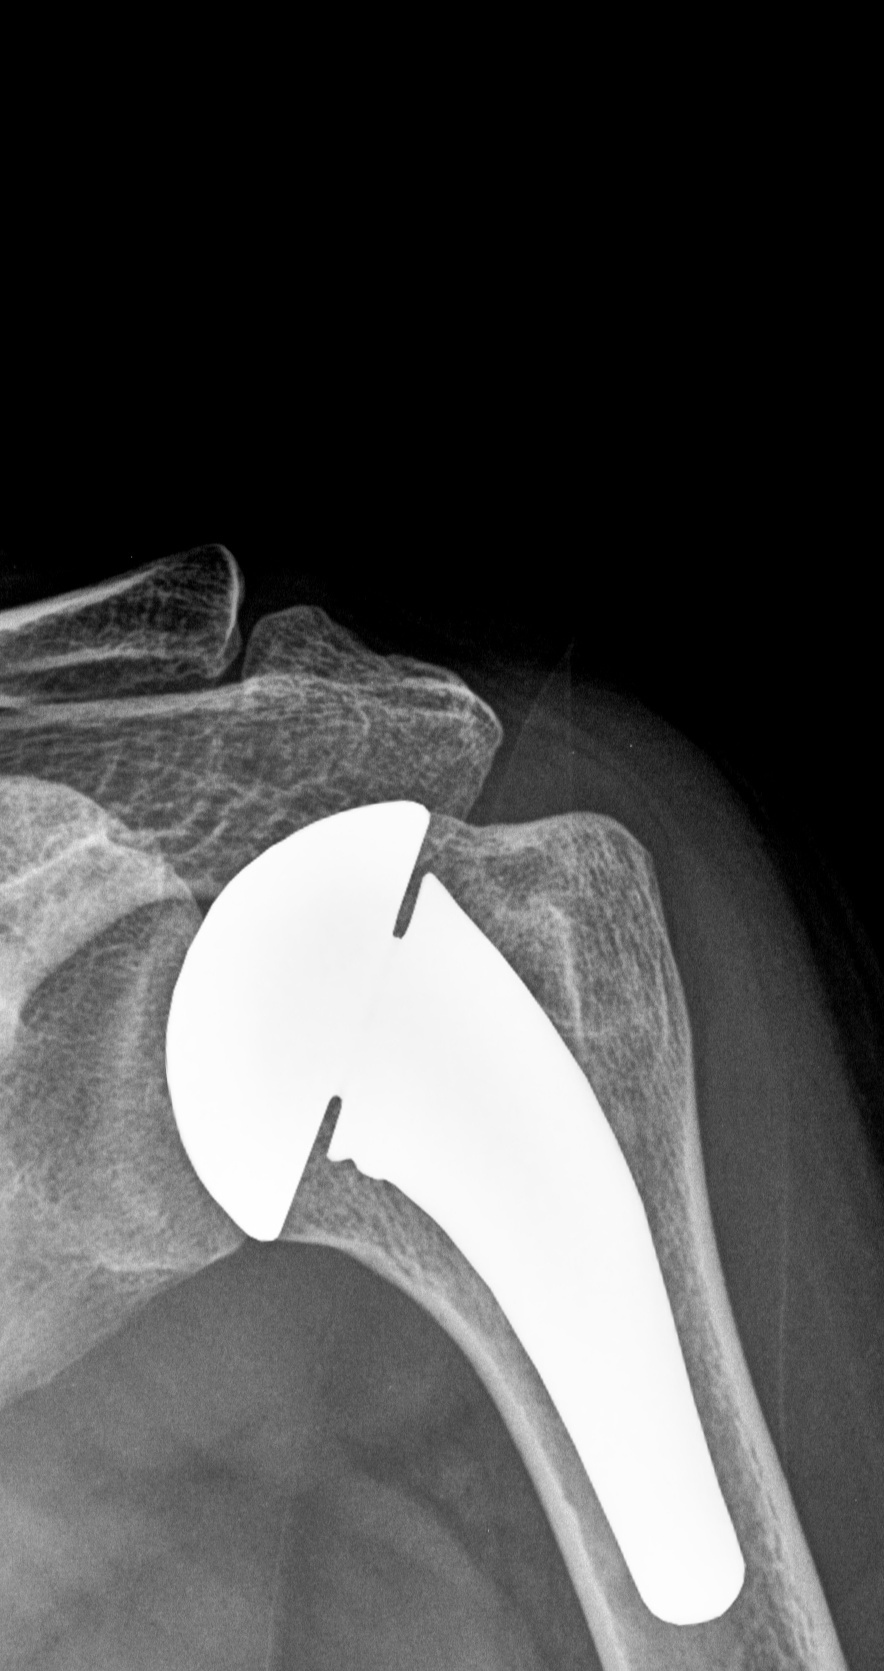Shoulder - AequalisAscendFlex - Tornier: (156, 775, 454, 1254)
